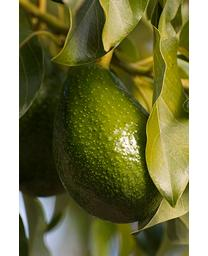avocado: (50, 59, 167, 224)
